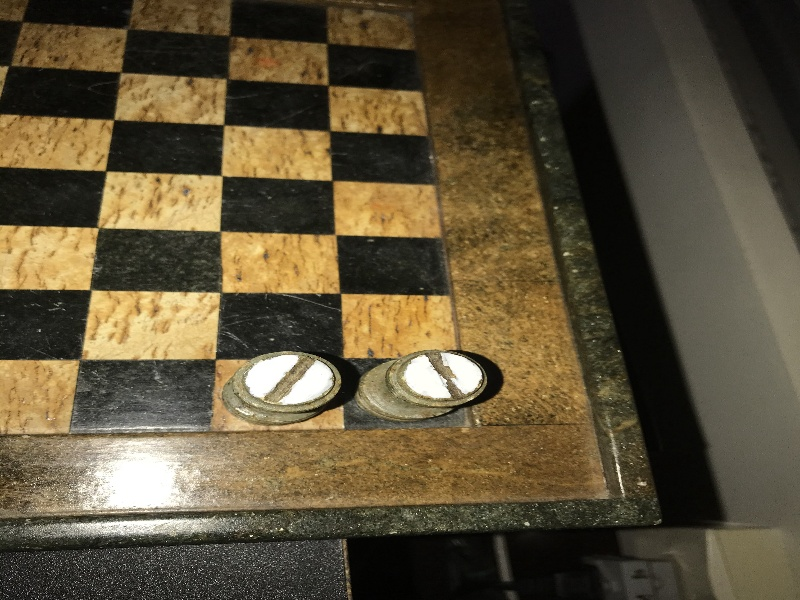WhiteRook: (355, 349, 487, 420), (222, 349, 342, 425)
